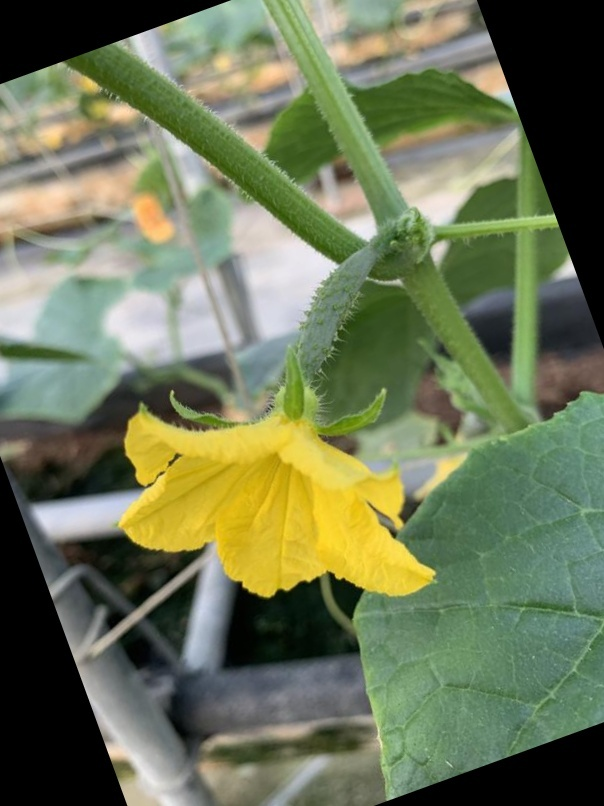flowering: (106, 244, 425, 634)
